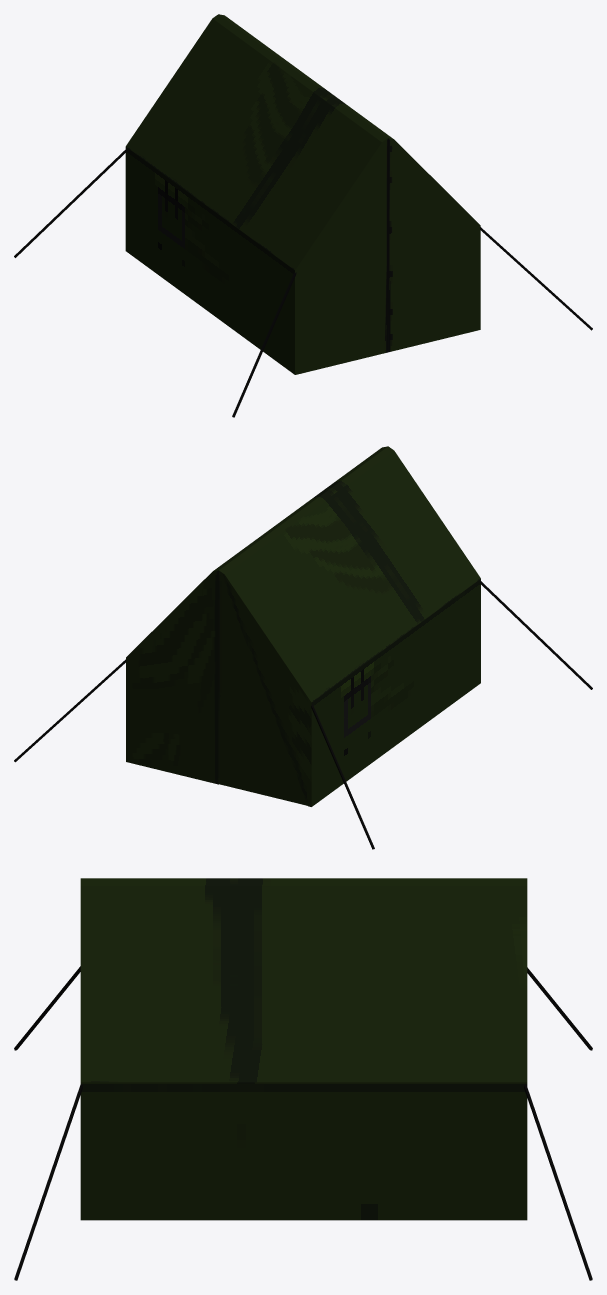
The model's file is palatka2.glb.
The picture shows the model from 3 angles, top to bottom: view 1: azimuth 30°, elevation 25°; view 2: azimuth 150°, elevation 25°; view 3: azimuth 270°, elevation 25°; orthographic projection. The views are drawn at different scales.
Visible parts, largest first — view 1: Cube; view 2: Cube, door; view 3: Cube.
Part boxes in pixels (left/top/right/bottom): Cube: left=14, top=14, right=592, bottom=417; Cube: left=14, top=446, right=592, bottom=849; door: left=219, top=572, right=307, bottom=805; Cube: left=14, top=878, right=592, bottom=1280.
Size of the model in its own units: 13.81 by 7.96 by 14.56.
Materials: 1 (1 with a texture image).
